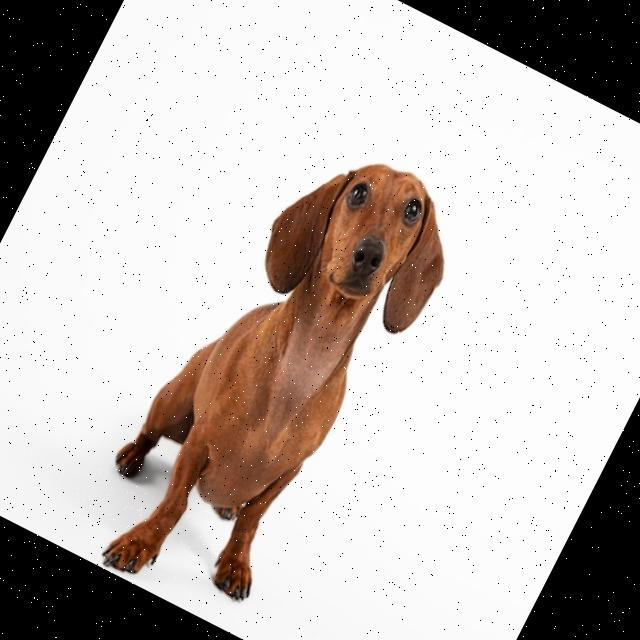Dog: (71, 114, 479, 640)
